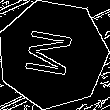M_E: (24, 27, 82, 81)
